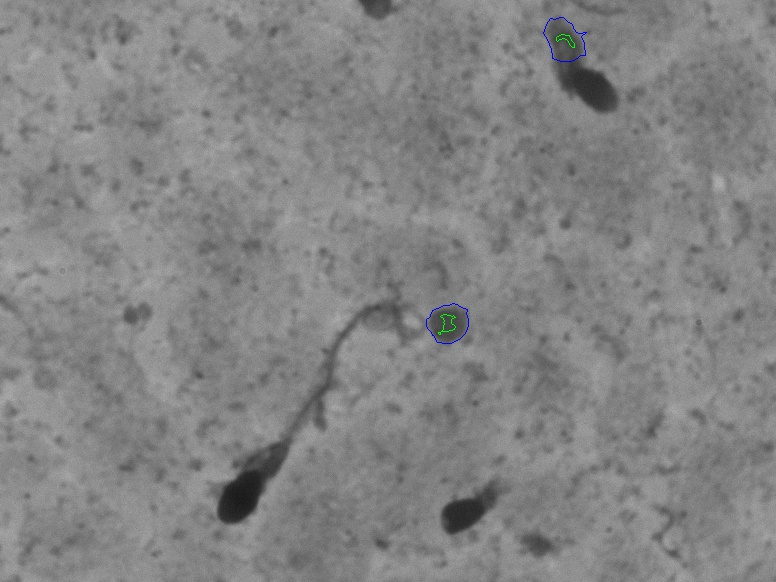Abnormal: (193, 235, 396, 528), (420, 425, 529, 567)
